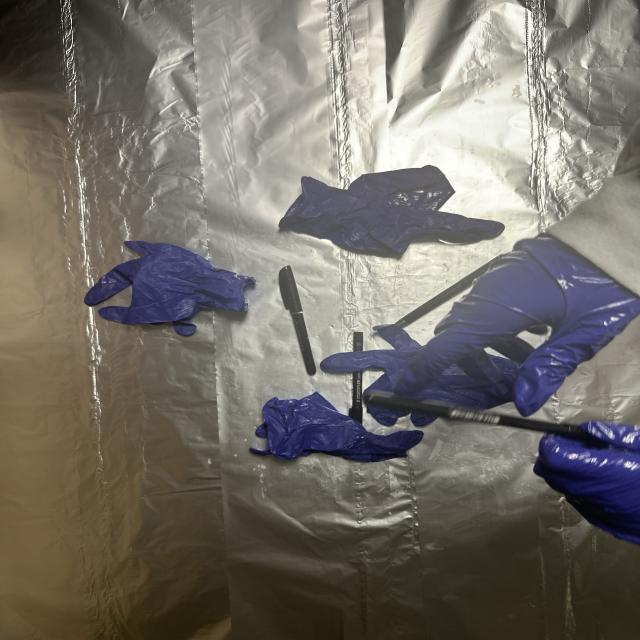gloves_contaminated: (395, 237, 640, 416), (534, 421, 640, 544)
